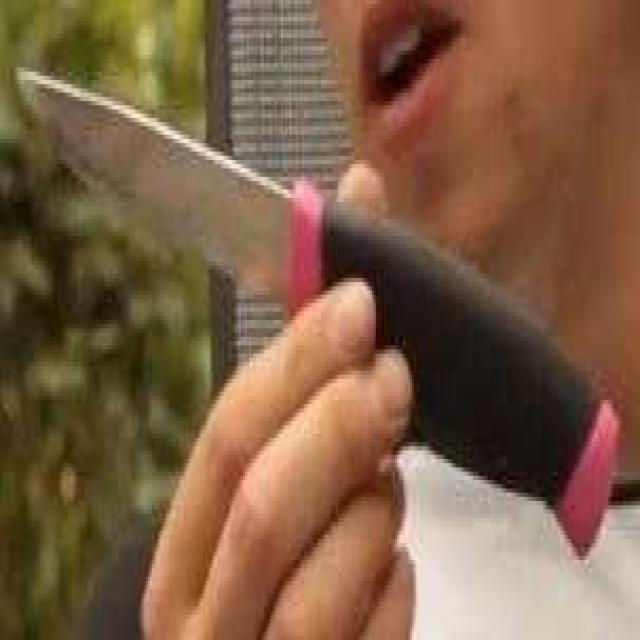Knife: (8, 56, 640, 584)
